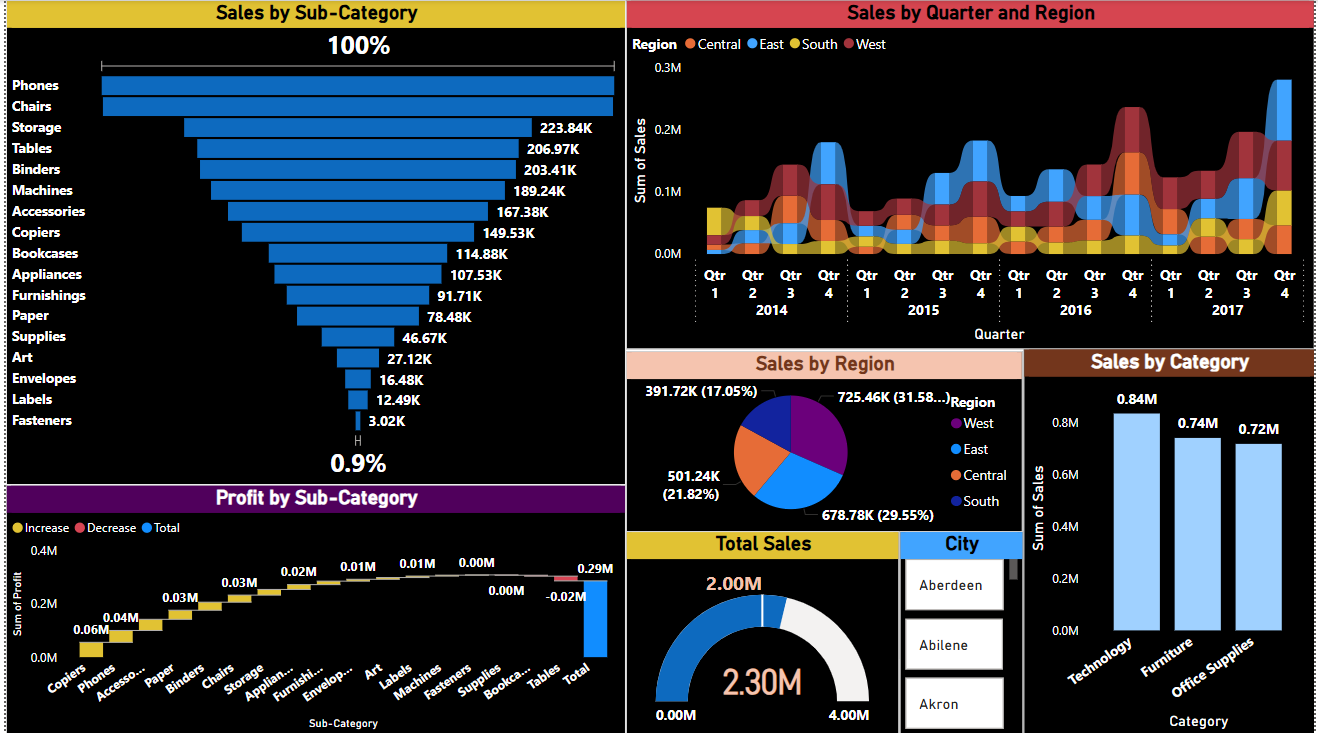

Layout of this report page (visuals, bound fields, positions):
{"tool":"powerbi","page":{"name":"SALES","canvas":[1280,720],"ordinal":2},"visuals":[{"type":"funnel","title":" Sales by Sub-Category","fields":{"Category":["Orders.Sub-Category"],"Y":["Sum(Orders.Sales)"]},"box":[0,0,606.5,474.8],"z":0},{"type":"ribbonChart","title":"Sales by Quarter and Region","fields":{"Category":["Orders.Order Date.Variation.Date Hierarchy.Year","Orders.Order Date.Variation.Date Hierarchy.Quarter","Orders.Order Date.Variation.Date Hierarchy.Month","Orders.Order Date.Variation.Date Hierarchy.Day"],"Y":["Sum(Orders.Sales)"],"Series":["Orders.Region"]},"box":[606.5,0,673.8,341.7],"z":1000},{"type":"waterfallChart","title":" Profit by Sub-Category","fields":{"Category":["Orders.Sub-Category"],"Y":["Sum(Orders.Profit)"]},"box":[0,474.8,606.5,245.6],"z":2000},{"type":"columnChart","title":"Sales by Category","fields":{"Category":["Orders.Category"],"Y":["Sum(Orders.Sales)"]},"box":[994.9,341.7,285.4,378.7],"z":3000},{"type":"gauge","title":"Total Sales","fields":{"Y":["Sum(Orders.Sales)"]},"box":[606.5,520.1,267.6,200.3],"z":4000},{"type":"pieChart","title":"Sales by Region","fields":{"Category":["Orders.Region"],"Y":["Sum(Orders.Sales)"]},"box":[606.5,343.1,388.3,177],"z":5000},{"type":"advancedSlicerVisual","fields":{"Values":["Orders.City"]},"box":[874.3,519.7,121.1,200.5],"z":6000}]}

Visuals, with their boxes in screenshot pixels (x1, y1, x2, y2), scaled from the page's 1280x720 canvas onto the 1318x733 screenshot:
" Sales by Sub-Category" funnel: 0,0,625,483
"Sales by Quarter and Region" ribbonChart: 625,0,1317,348
" Profit by Sub-Category" waterfallChart: 0,483,625,732
"Sales by Category" columnChart: 1024,348,1317,732
"Total Sales" gauge: 625,529,900,732
"Sales by Region" pieChart: 625,349,1024,529
advancedSlicerVisual - Orders.City: 900,529,1025,732
